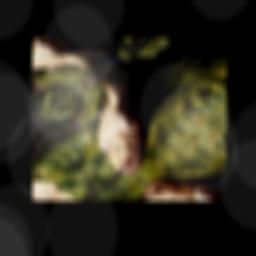Cuckoo: (45, 48, 216, 191)
